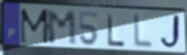5: (78, 10, 100, 49)
J: (158, 13, 182, 52)
L: (132, 13, 155, 51), (106, 12, 127, 48)
M: (45, 10, 79, 47), (19, 8, 51, 47)
